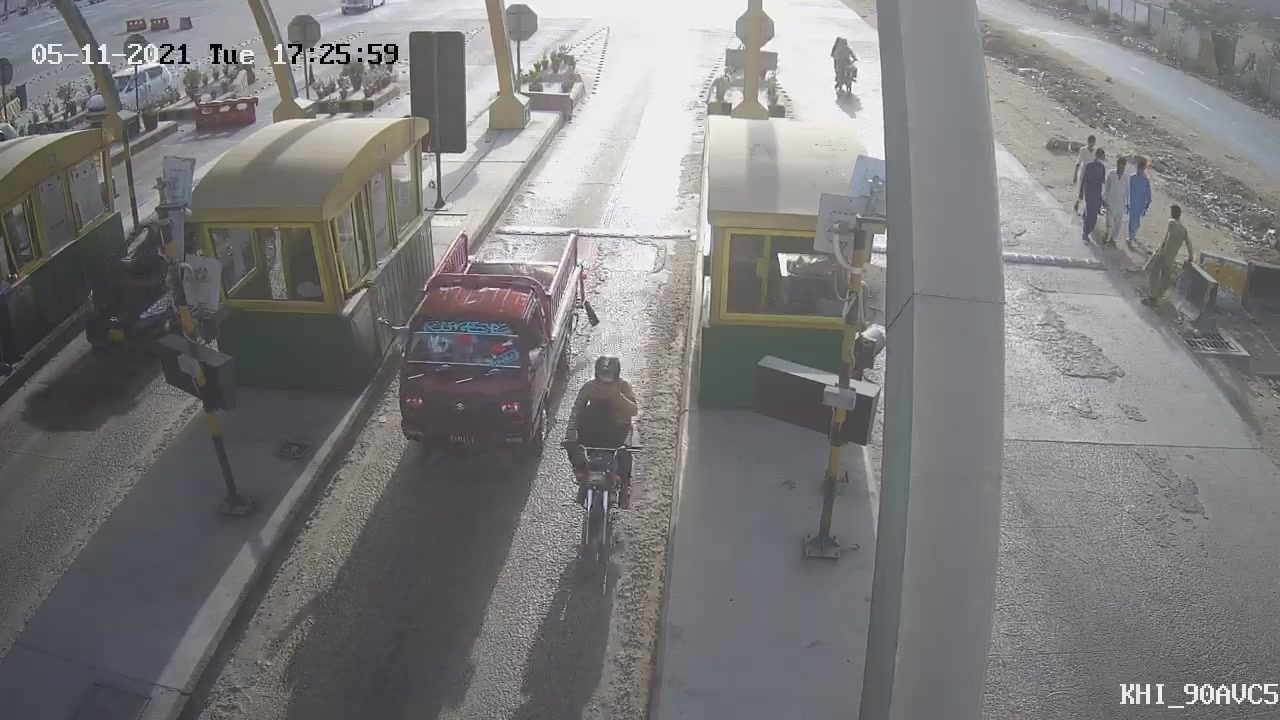F1: (383, 215, 586, 469)
